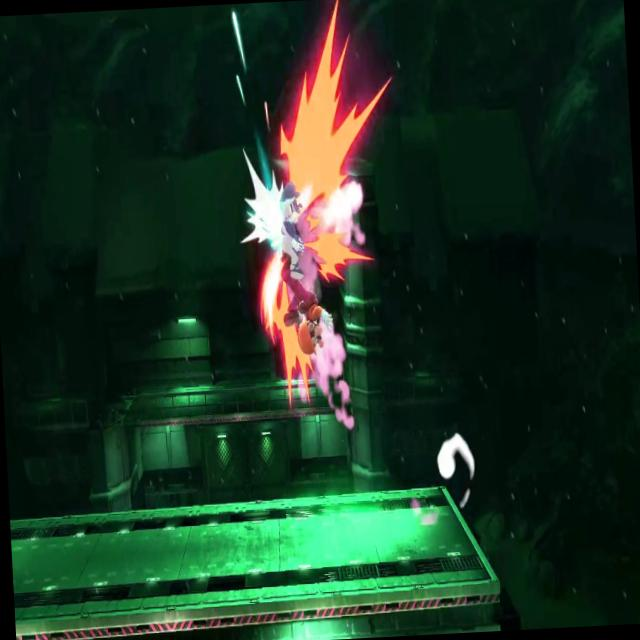Mario: (267, 176, 311, 286)
Mario-UA: (268, 248, 338, 358)
